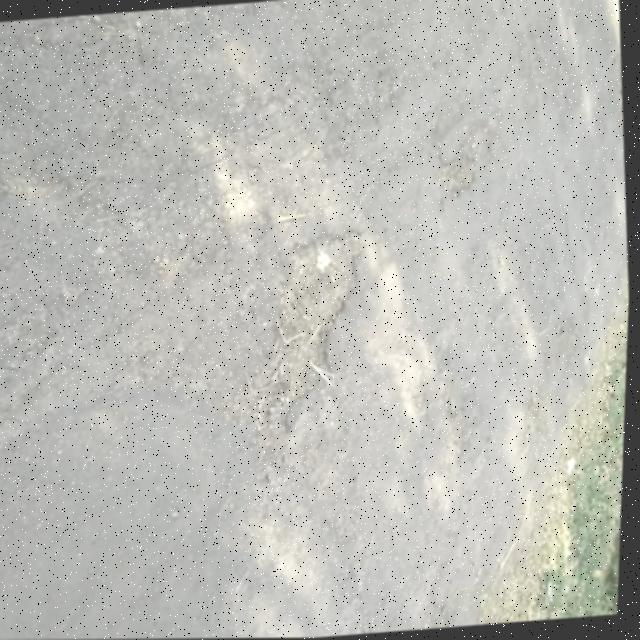Pothole: (243, 226, 386, 452), (432, 125, 499, 204), (431, 601, 457, 629)
